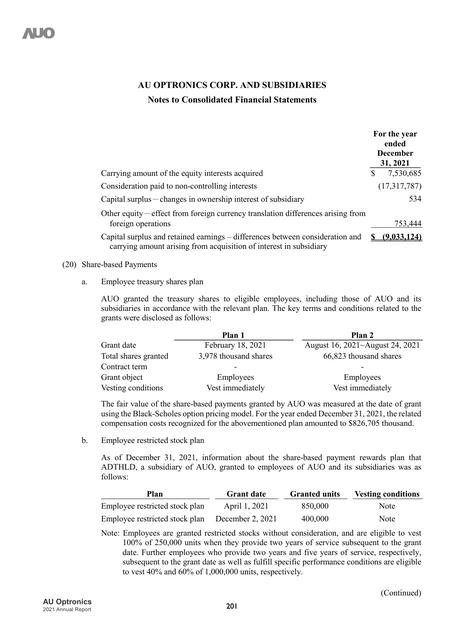box: (99, 129, 424, 252), (100, 329, 422, 394), (100, 486, 424, 527)
